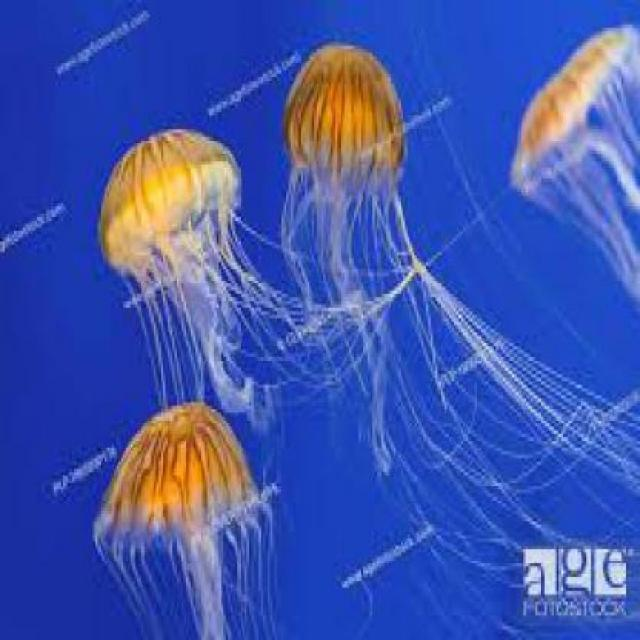Jellyfish: (276, 31, 496, 468), (93, 119, 312, 427), (88, 396, 274, 636)
